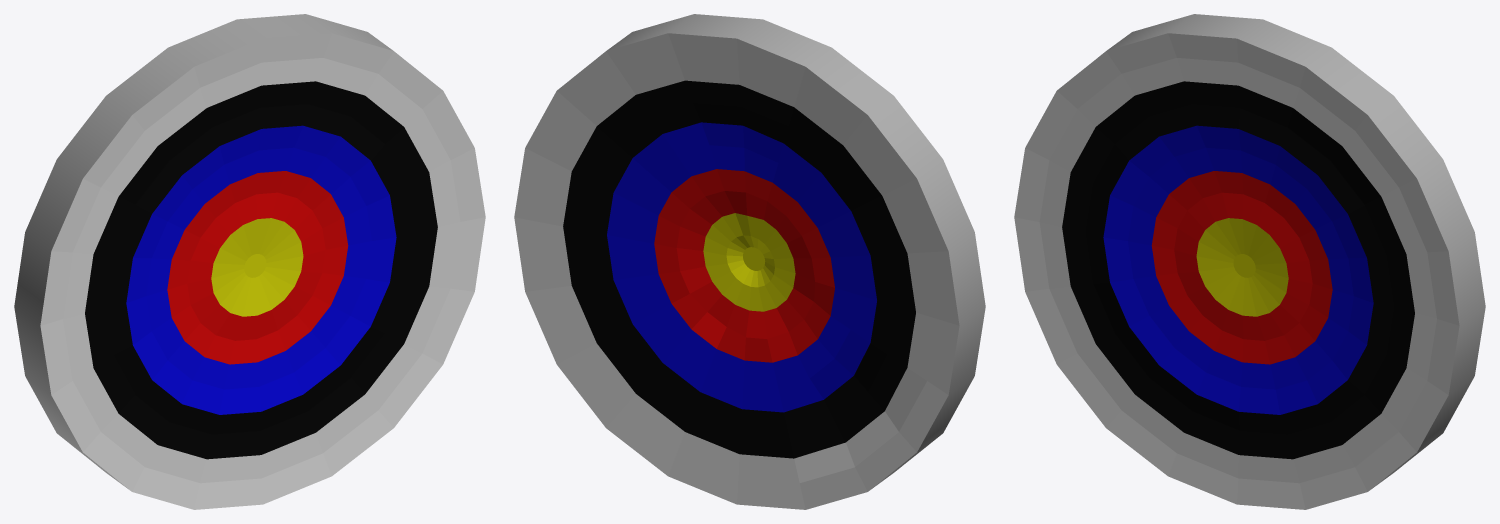
3 views of the same model, side by side, from view 1: azimuth 30°, elevation 25°; view 2: azimuth 150°, elevation 25°; view 3: azimuth 330°, elevation 25° (orthographic).
Parts seen in each view (by area): view 1: pCylinder1; view 2: pCylinder1; view 3: pCylinder1.
Part boxes in pixels (x1,y1,x2,y2): pCylinder1: [14, 14, 485, 509]; pCylinder1: [514, 14, 985, 509]; pCylinder1: [1014, 14, 1485, 509].
Size of the model in its own units: 3.68 by 3.68 by 0.3748.
